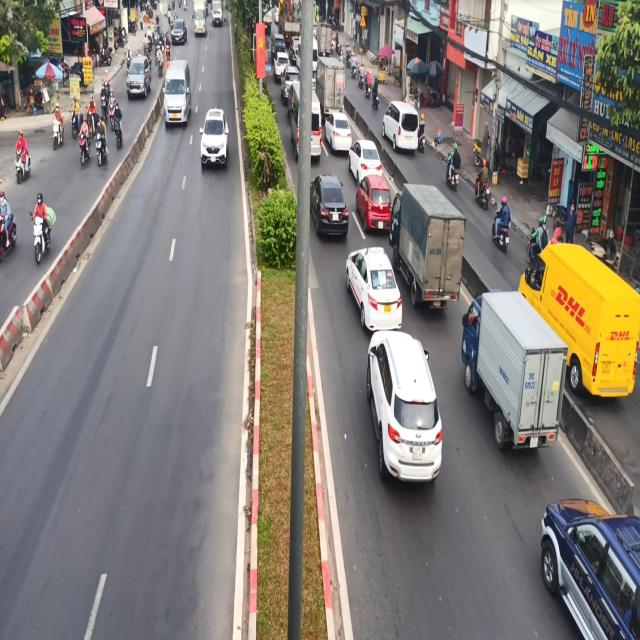car: (368, 331, 443, 499), (200, 99, 232, 176), (164, 57, 192, 131), (129, 54, 154, 112)
truck: (458, 284, 569, 463), (390, 174, 467, 315)
